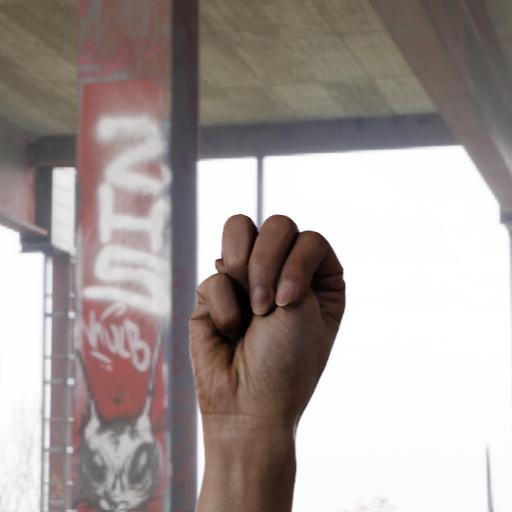M: (154, 187, 354, 463)
